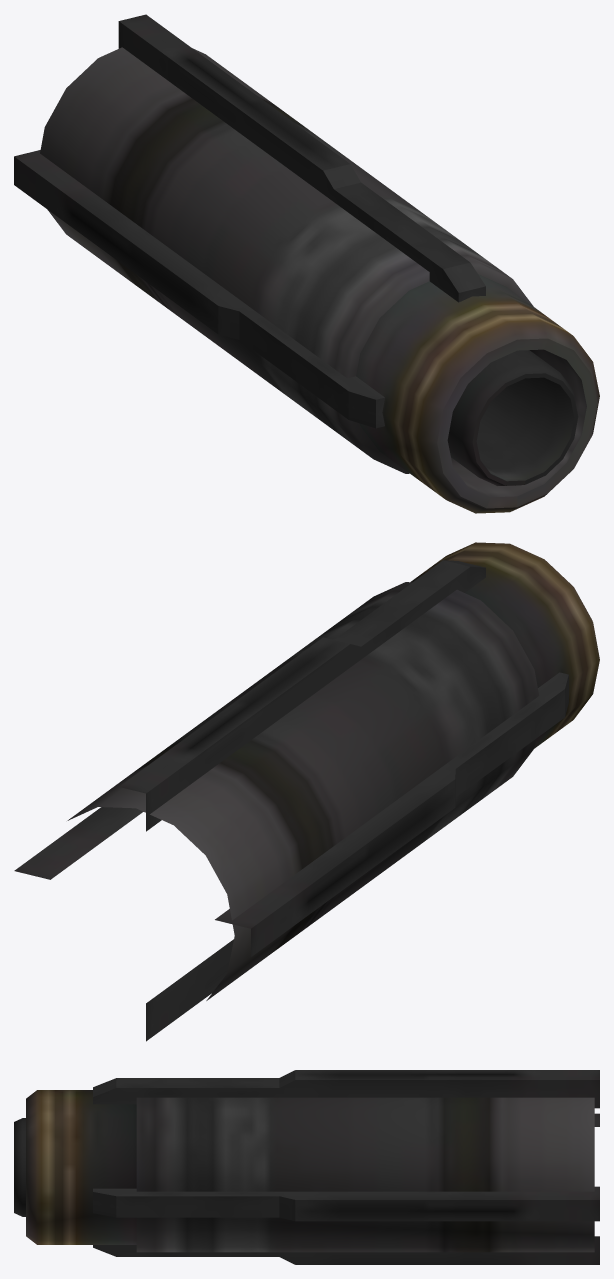
The model's file is ScifiMech20cmCanonBarrel.glb.
3 renders of one model, top to bottom at view 1: azimuth 30°, elevation 25°; view 2: azimuth 150°, elevation 25°; view 3: azimuth 270°, elevation 25°, orthographic. The views are drawn at different scales.
Parts seen in each view (by area): view 1: ScifiMech20cmCanonBarrel; view 2: ScifiMech20cmCanonBarrel; view 3: ScifiMech20cmCanonBarrel.
Part boxes in pixels (bbox=[...]): ScifiMech20cmCanonBarrel: bbox=[14, 14, 599, 513]; ScifiMech20cmCanonBarrel: bbox=[14, 542, 599, 1041]; ScifiMech20cmCanonBarrel: bbox=[14, 1070, 599, 1264].
Size of the model in its own units: 0.00817 by 0.00817 by 0.0235.
Materials: 1 (1 with a texture image).
